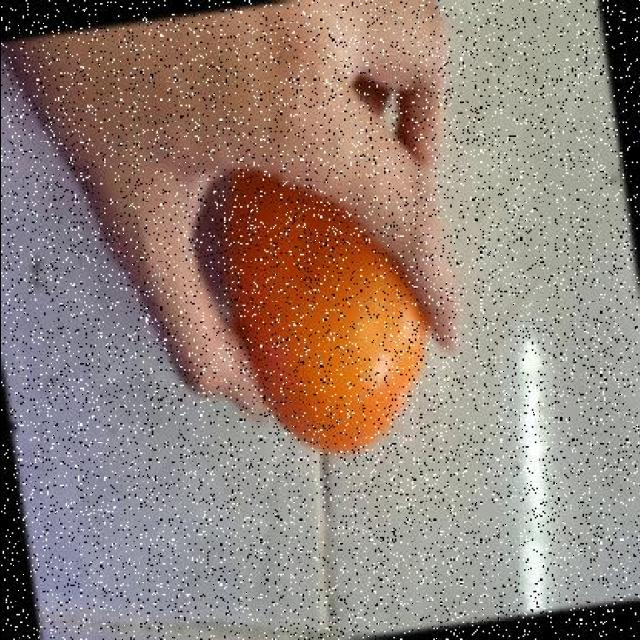Orange: (210, 167, 436, 456)
